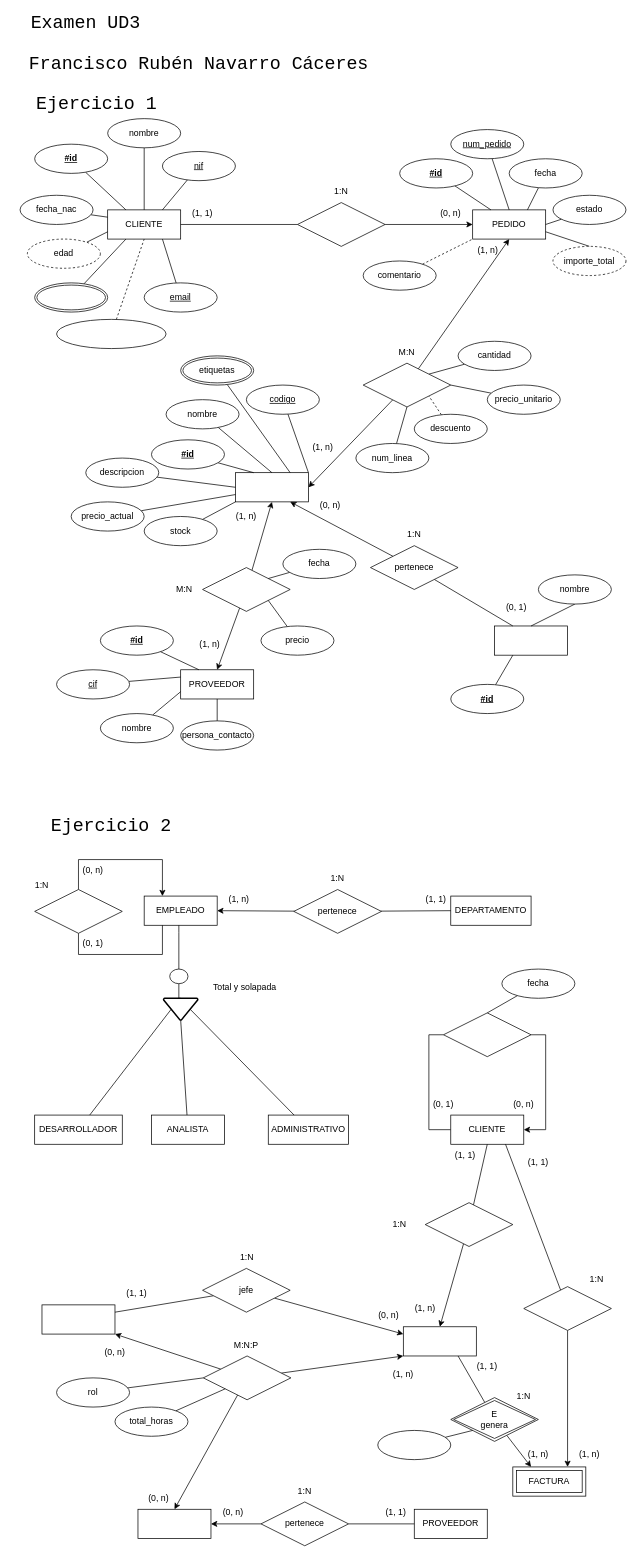
This 639x1559 diagram has some shape labels left out. The shapes that lost their labels are listed below. From the top down, each one's centre as x and y in pixels, then its label:
At (x=341, y=224): "relaliza".
At (x=71, y=297): "telefono".
At (x=111, y=334): "direccion_facturacioon".
At (x=406, y=384): "incluye".
At (x=271, y=487): "ARTICULO".
At (x=246, y=589): "suministra".
At (x=531, y=640): "CATEGORIA".
At (x=78, y=911): "es jefe".
At (x=487, y=1034): "es recomendado".
At (x=468, y=1224): "encarga".
At (x=78, y=1319): "EMPLEADO*".
At (x=567, y=1308): "emite".
At (x=439, y=1341): "PROYECTO".
At (x=247, y=1377): "trabajan".
At (x=414, y=1445): "num_factura".
At (x=174, y=1523): "HERRAMIENTA".
